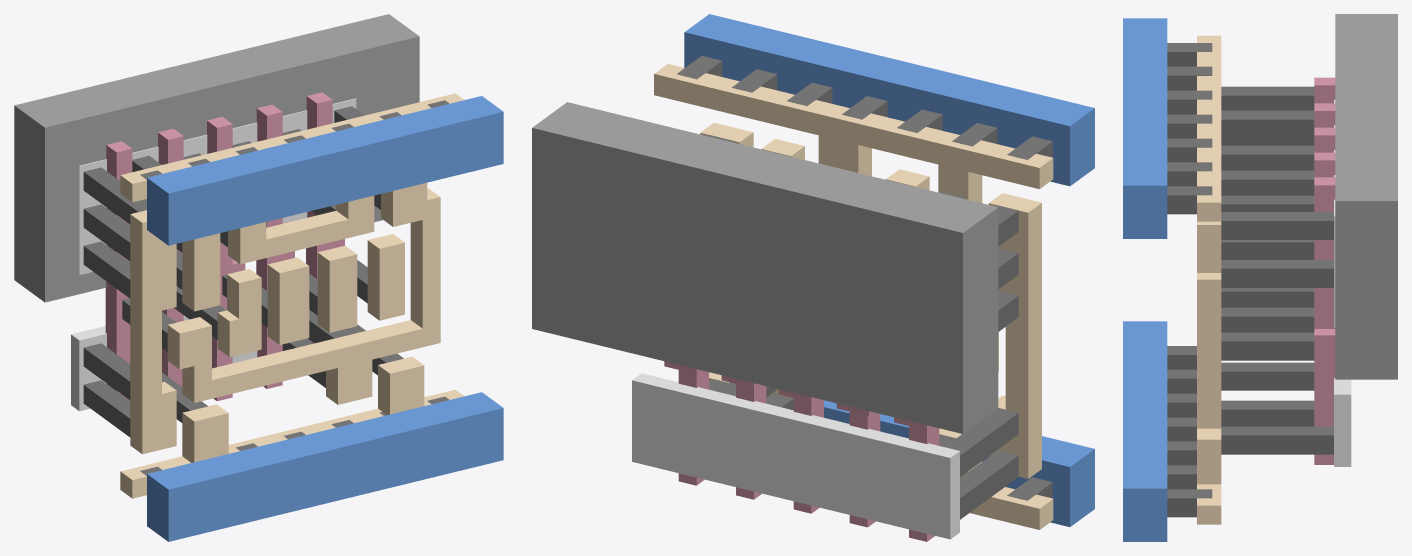
The model's file is sky130_fd_sc_hd__a31o_1.gds.gltf.
The picture shows the model from 3 angles, left to right: view 1: azimuth 30°, elevation 25°; view 2: azimuth 150°, elevation 25°; view 3: azimuth 270°, elevation 25°; orthographic projection. The views are drawn at different scales.
Visible parts, largest first — view 1: sky130_fd_sc_hd__a31o_1_li1, sky130_fd_sc_hd__a31o_1_met1, sky130_fd_sc_hd__a31o_1_nwell, sky130_fd_sc_hd__a31o_1_licon, sky130_fd_sc_hd__a31o_1_poly, sky130_fd_sc_hd__a31o_1_diff, sky130_fd_sc_hd__a31o_1_mcon; view 2: sky130_fd_sc_hd__a31o_1_nwell, sky130_fd_sc_hd__a31o_1_diff, sky130_fd_sc_hd__a31o_1_li1, sky130_fd_sc_hd__a31o_1_met1, sky130_fd_sc_hd__a31o_1_licon, sky130_fd_sc_hd__a31o_1_mcon, sky130_fd_sc_hd__a31o_1_poly; view 3: sky130_fd_sc_hd__a31o_1_licon, sky130_fd_sc_hd__a31o_1_nwell, sky130_fd_sc_hd__a31o_1_met1, sky130_fd_sc_hd__a31o_1_mcon, sky130_fd_sc_hd__a31o_1_li1, sky130_fd_sc_hd__a31o_1_poly, sky130_fd_sc_hd__a31o_1_diff.
Part boxes in pixels (x1=…): sky130_fd_sc_hd__a31o_1_li1: x1=120, y1=93, x2=463, y2=498; sky130_fd_sc_hd__a31o_1_met1: x1=147, y1=96, x2=503, y2=541; sky130_fd_sc_hd__a31o_1_nwell: x1=14, y1=14, x2=419, y2=302; sky130_fd_sc_hd__a31o_1_licon: x1=83, y1=106, x2=403, y2=437; sky130_fd_sc_hd__a31o_1_poly: x1=105, y1=92, x2=344, y2=401; sky130_fd_sc_hd__a31o_1_diff: x1=71, y1=98, x2=356, y2=411; sky130_fd_sc_hd__a31o_1_mcon: x1=140, y1=100, x2=449, y2=475; sky130_fd_sc_hd__a31o_1_nwell: x1=532, y1=102, x2=998, y2=433; sky130_fd_sc_hd__a31o_1_diff: x1=632, y1=373, x2=959, y2=539; sky130_fd_sc_hd__a31o_1_li1: x1=654, y1=64, x2=1053, y2=529; sky130_fd_sc_hd__a31o_1_met1: x1=684, y1=14, x2=1094, y2=526; sky130_fd_sc_hd__a31o_1_licon: x1=708, y1=135, x2=1018, y2=519; sky130_fd_sc_hd__a31o_1_mcon: x1=677, y1=56, x2=1052, y2=500; sky130_fd_sc_hd__a31o_1_poly: x1=664, y1=361, x2=939, y2=541; sky130_fd_sc_hd__a31o_1_licon: x1=1221, y1=86, x2=1333, y2=454; sky130_fd_sc_hd__a31o_1_nwell: x1=1335, y1=14, x2=1397, y2=379; sky130_fd_sc_hd__a31o_1_met1: x1=1123, y1=18, x2=1167, y2=541; sky130_fd_sc_hd__a31o_1_mcon: x1=1167, y1=43, x2=1212, y2=517; sky130_fd_sc_hd__a31o_1_li1: x1=1197, y1=35, x2=1221, y2=524; sky130_fd_sc_hd__a31o_1_poly: x1=1314, y1=77, x2=1335, y2=464; sky130_fd_sc_hd__a31o_1_diff: x1=1334, y1=99, x2=1351, y2=466.
Size of the model in its own units: 3.6 by 3.2 by 2.24.
